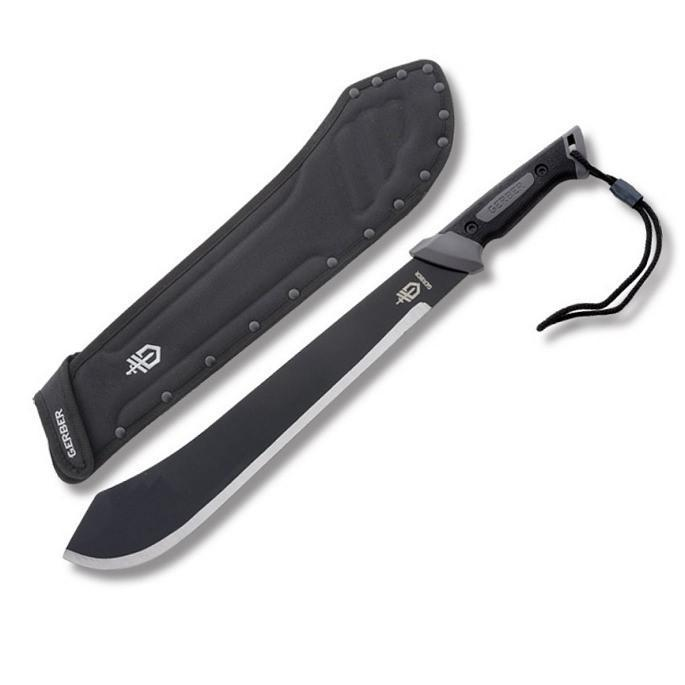facao: (64, 128, 603, 569)
